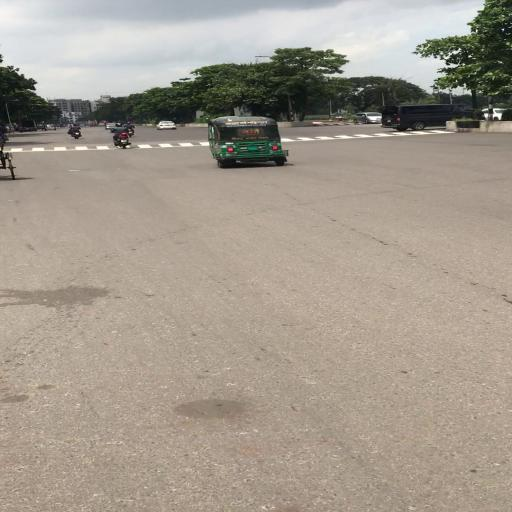bus: (88, 120, 99, 128)
car: (355, 113, 382, 126), (155, 122, 178, 131), (106, 124, 116, 130)
motorbike: (111, 124, 134, 150), (68, 124, 83, 140), (125, 123, 136, 139)
three wheelers (CNG): (206, 117, 290, 169)
van: (383, 104, 485, 131)
